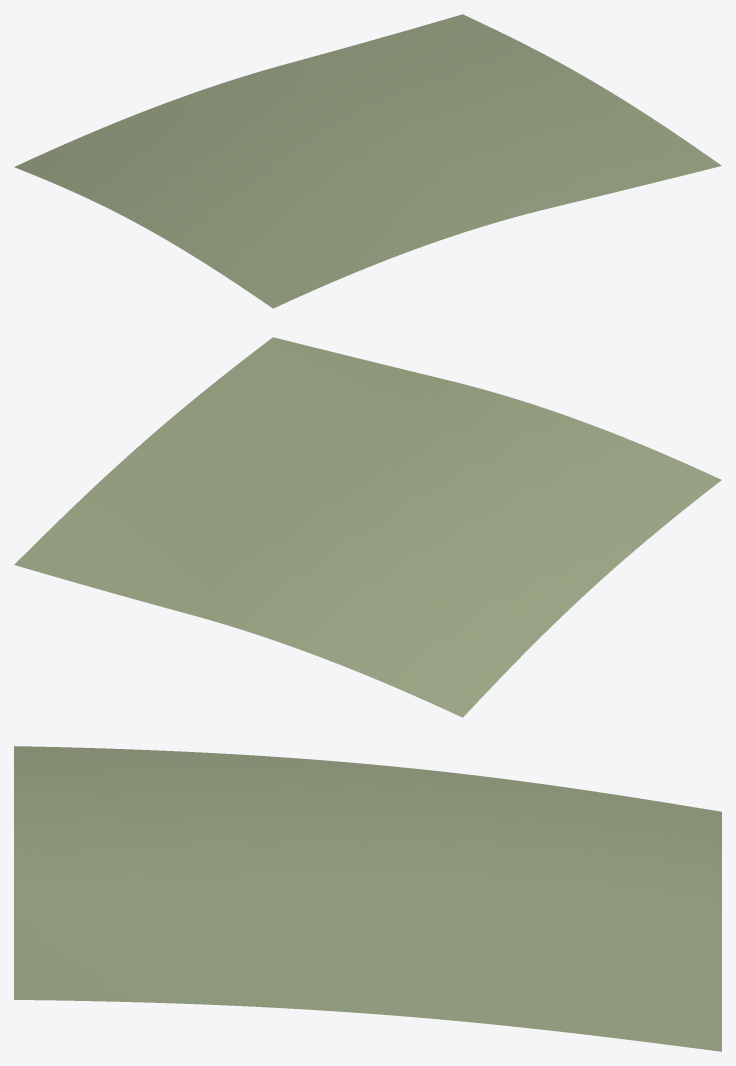
File: desert-24-6.glb
3 renders of one model, top to bottom at view 1: azimuth 30°, elevation 25°; view 2: azimuth 150°, elevation 25°; view 3: azimuth 270°, elevation 25°, orthographic. The views are drawn at different scales.
Parts seen in each view (by area): view 1: desert-24-6; view 2: desert-24-6; view 3: desert-24-6.
Boxes of the visible parts, box(x1,y1,x2,y2) form: desert-24-6: box(14, 14, 721, 308); desert-24-6: box(14, 337, 721, 717); desert-24-6: box(14, 746, 721, 1051).
Bounding box in the file's own units: 512 × 88.69 × 512.
